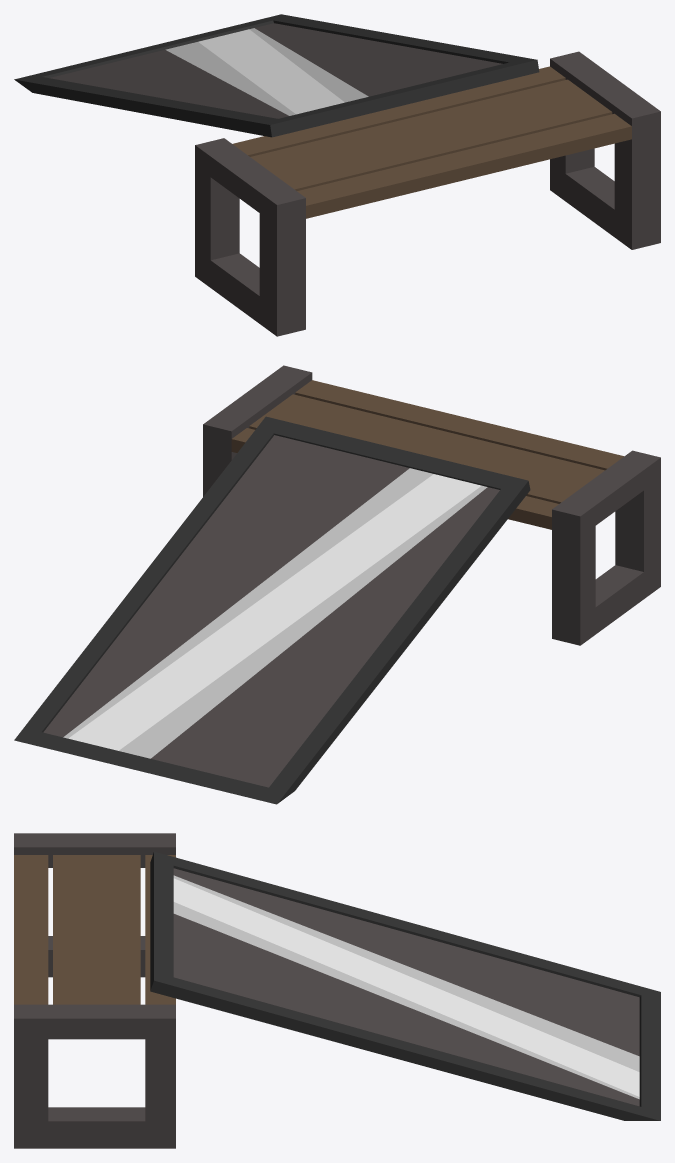
Rendered from Rampa 3.fbx.
3 renders of one model, top to bottom at view 1: azimuth 30°, elevation 25°; view 2: azimuth 150°, elevation 25°; view 3: azimuth 270°, elevation 25°, orthographic.
Visible parts, largest first — view 1: Banca_2, Pantalla_Rota2; view 2: Pantalla_Rota2, Banca_2; view 3: Pantalla_Rota2, Banca_2.
Boxes of the visible parts, box(x1,y1,x2,y2) form: Banca_2: box(195, 51, 660, 336); Pantalla_Rota2: box(14, 14, 539, 137); Pantalla_Rota2: box(14, 416, 530, 804); Banca_2: box(203, 365, 660, 645); Pantalla_Rota2: box(150, 851, 660, 1120); Banca_2: box(14, 833, 175, 1148).
Bounding box in the file's own units: 4.57 × 1.64 × 6.75.
